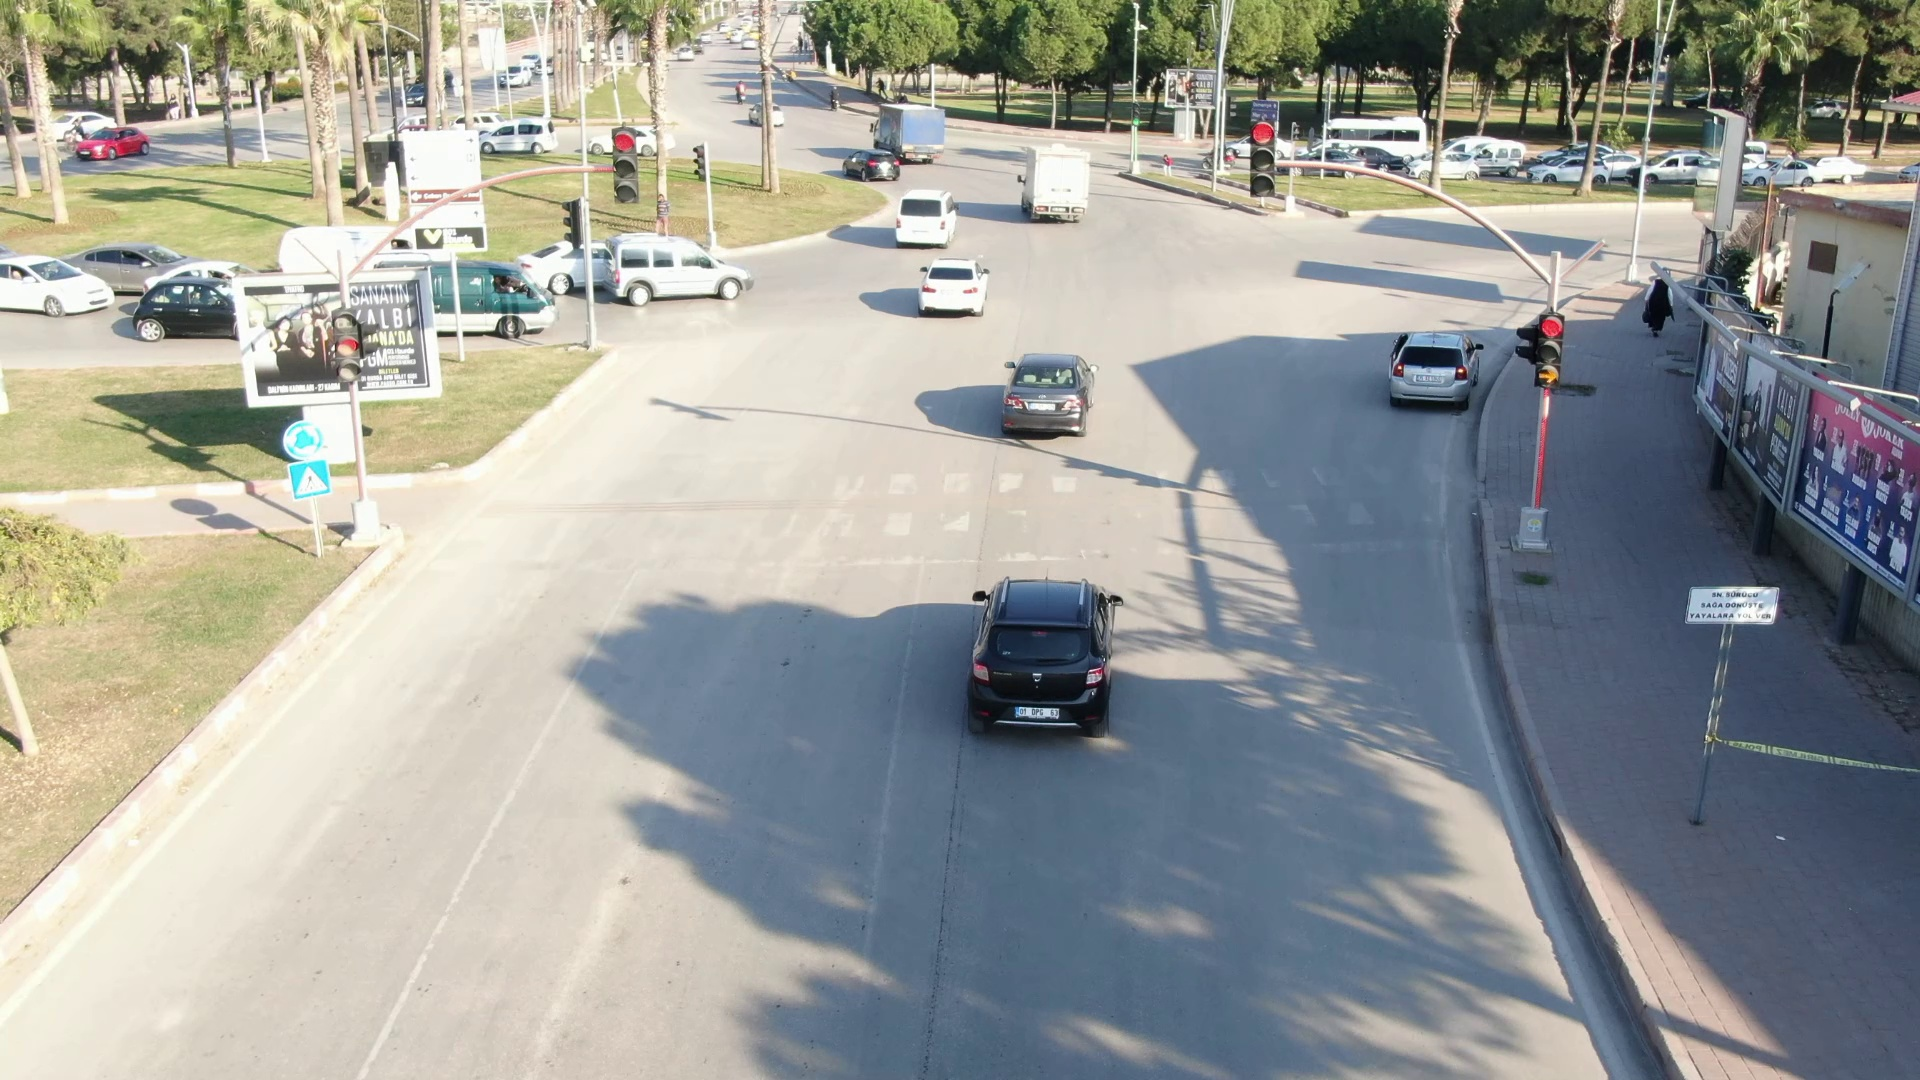car: (949, 560, 1123, 741), (600, 224, 772, 324), (987, 338, 1110, 447), (1, 238, 134, 324), (1384, 317, 1482, 411), (1007, 134, 1097, 232), (869, 99, 964, 170), (910, 250, 995, 327), (886, 181, 968, 252), (830, 139, 910, 186)
person: (1636, 266, 1682, 347)
